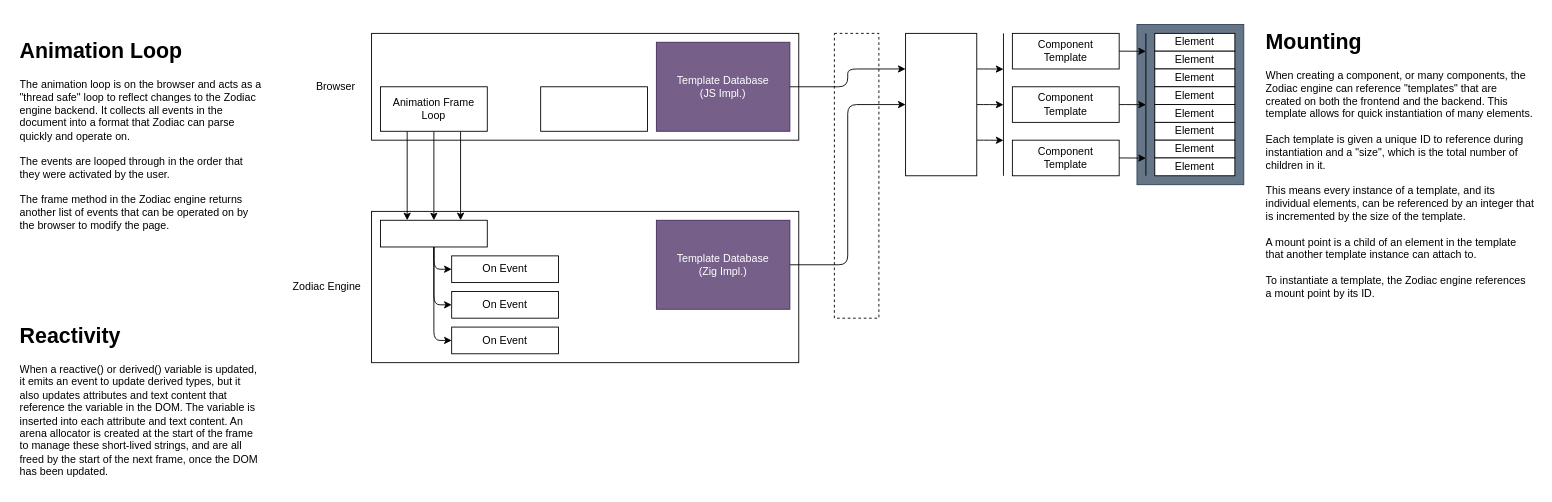
The diagram is 1552 pixels wide and 502 high, and some of its shapes have lost their labels. The box of each missing label's shape, as (x1, y1, x2, y2) in pixels:
BUILD TIME: (833, 32, 879, 318)
Element Properties: (540, 86, 647, 131)
On Frame: (380, 219, 487, 247)
Template List: (905, 32, 977, 176)
